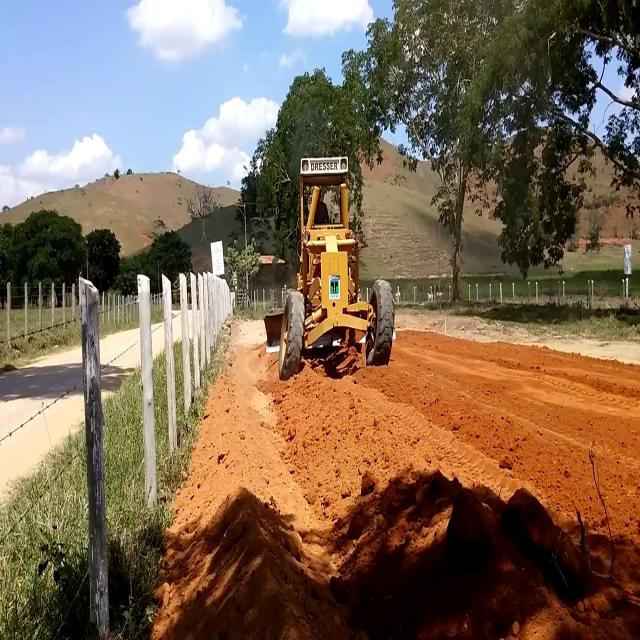buldozerpayloadergrader: (260, 153, 396, 380)
